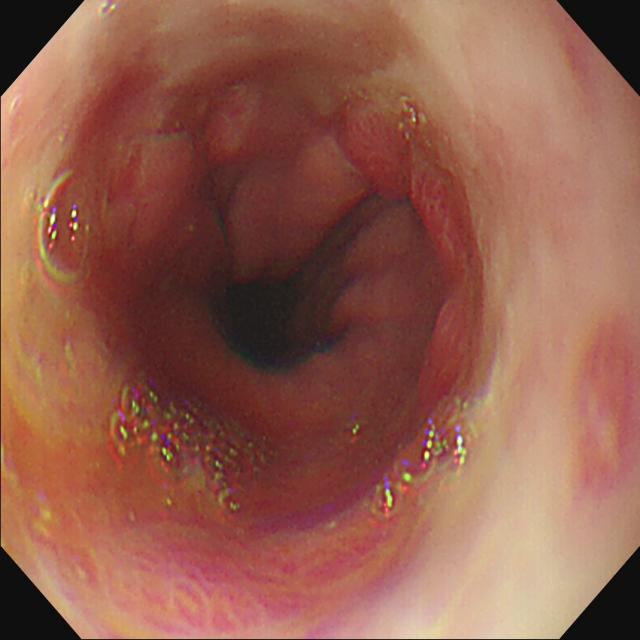A: (565, 305, 639, 511), (112, 129, 199, 257), (334, 96, 419, 205), (411, 162, 480, 274), (197, 84, 264, 159)
E: (228, 282, 298, 356)
U: (110, 378, 241, 519), (379, 419, 469, 521), (39, 168, 83, 285)
